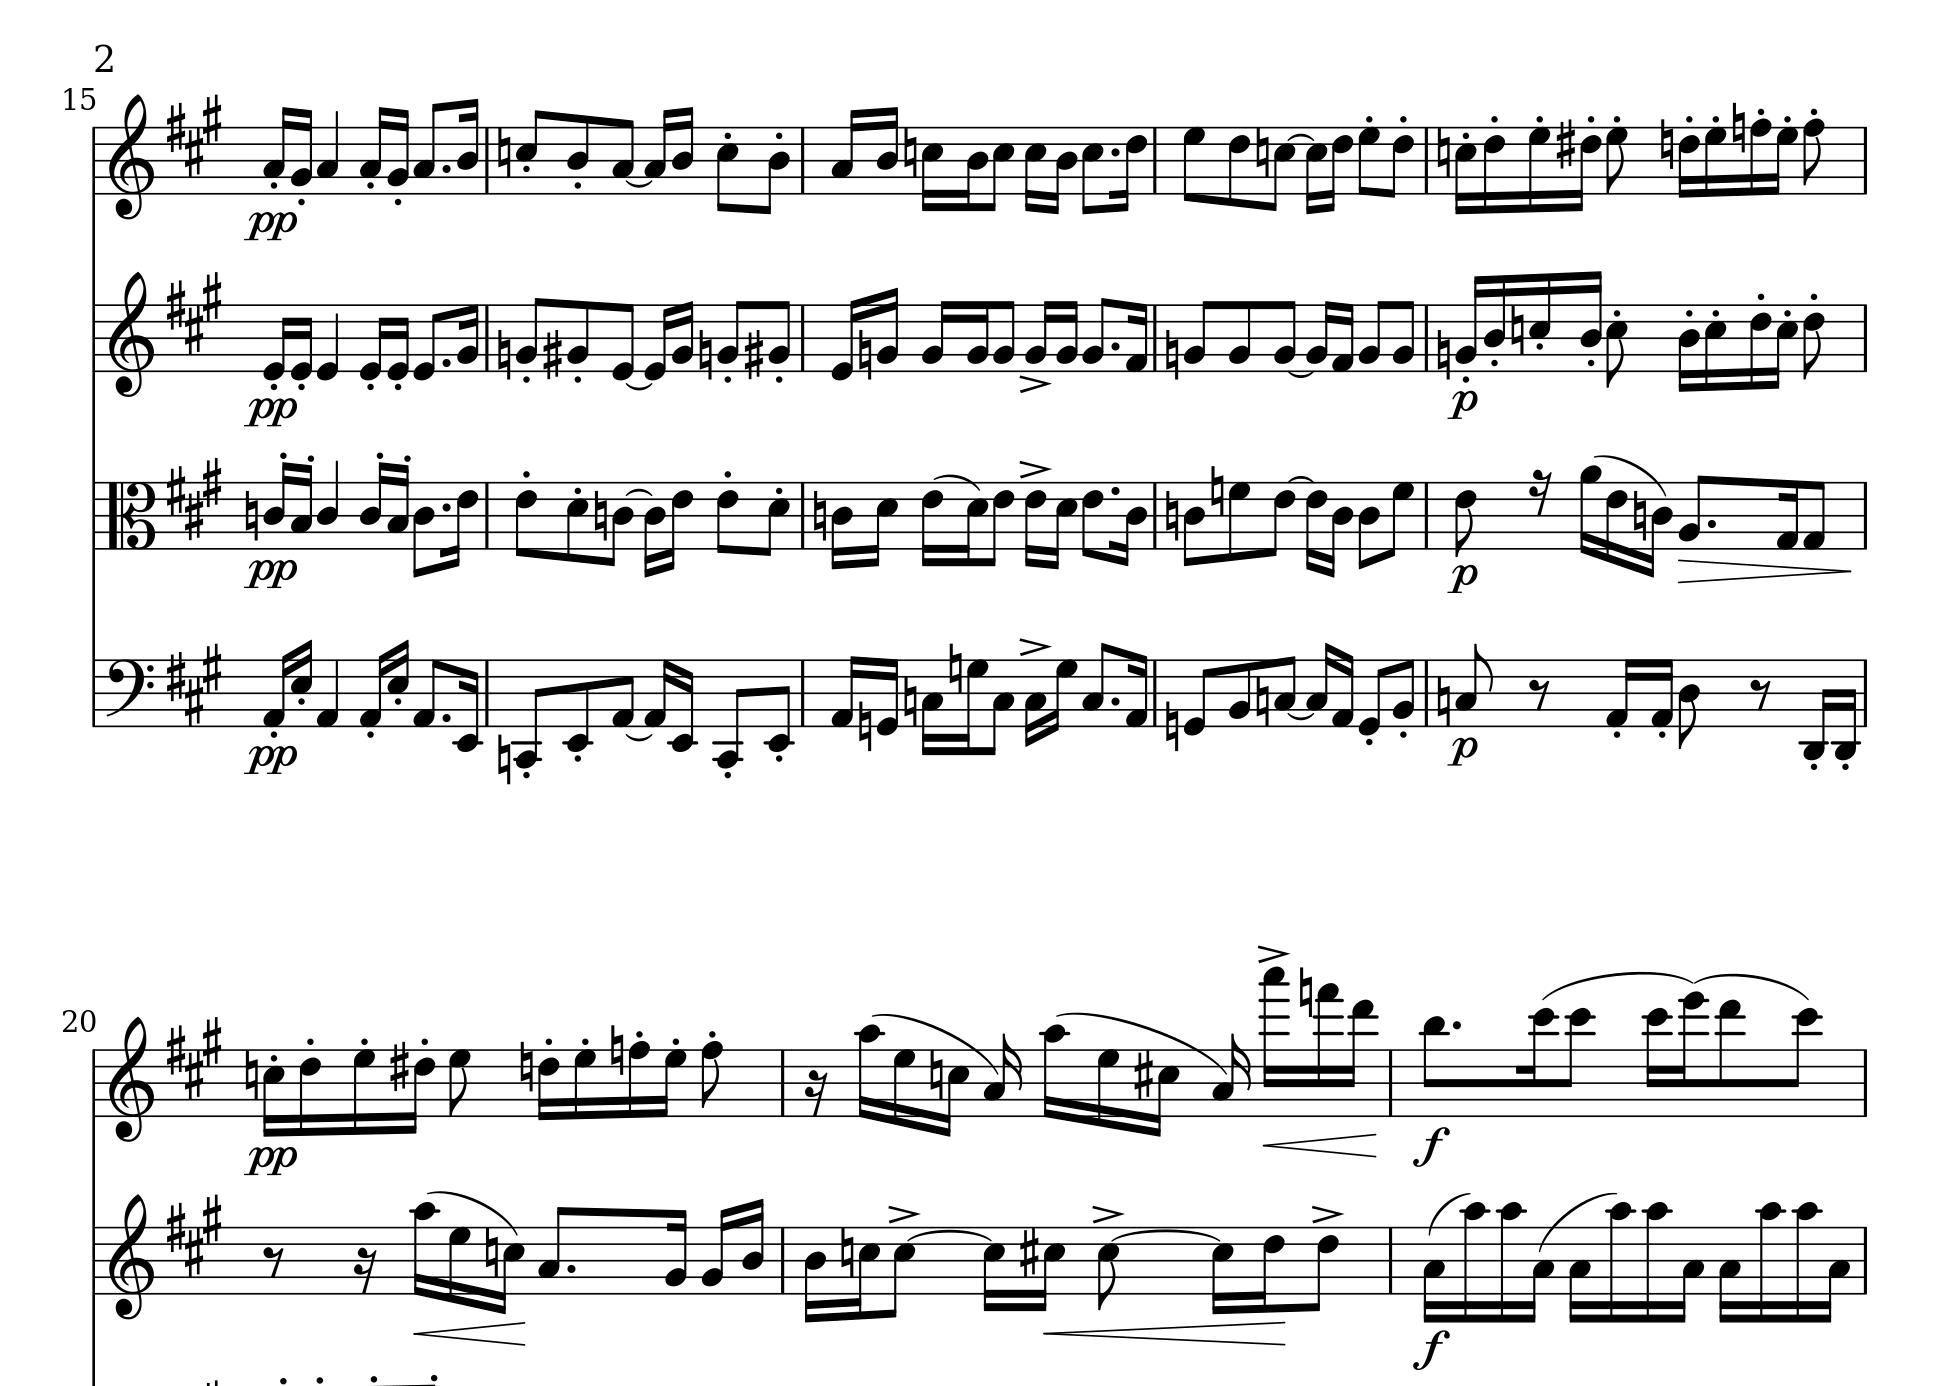0: (79, 1005, 97, 1033)
1: (61, 85, 76, 112)
16_-2: (453, 657, 481, 753), (667, 657, 696, 753)
16_-3: (1800, 657, 1833, 762), (1833, 657, 1860, 762)
16_0: (828, 295, 861, 382), (259, 301, 291, 382), (357, 301, 388, 382), (642, 301, 672, 382), (289, 301, 313, 384), (385, 301, 409, 382), (876, 655, 898, 739)
16_1: (355, 646, 388, 730), (259, 649, 292, 730), (829, 654, 859, 730), (1605, 657, 1636, 729), (642, 657, 672, 730), (1774, 477, 1800, 550), (1125, 651, 1149, 729), (1332, 648, 1354, 727), (1125, 300, 1149, 373), (1650, 655, 1674, 729), (1332, 300, 1354, 373)
16_10: (1606, 1198, 1638, 1324), (1642, 1200, 1674, 1324), (1461, 1198, 1491, 1324), (1756, 1200, 1786, 1324), (1497, 1200, 1527, 1323), (1792, 1200, 1821, 1324), (1041, 1023, 1071, 1120), (856, 1021, 885, 1122), (411, 1200, 439, 1299)
16_12: (1518, 1005, 1558, 1117), (1644, 1006, 1671, 1119)
16_13: (1345, 997, 1377, 1117)
16_14: (1674, 991, 1707, 1117)
16_15: (1314, 979, 1342, 1117)
16_17: (1260, 966, 1290, 1117)
16_2: (1455, 273, 1485, 372), (700, 1204, 730, 1294), (919, 298, 952, 372), (874, 286, 900, 375), (663, 1207, 688, 1296), (1023, 298, 1053, 373), (289, 106, 313, 196), (385, 106, 409, 196), (1305, 298, 1333, 373), (964, 298, 990, 373), (454, 301, 480, 373), (670, 298, 694, 373), (1056, 298, 1078, 373)
16_3: (984, 1030, 1023, 1117), (1212, 1030, 1251, 1117), (1675, 1225, 1707, 1324), (829, 106, 862, 195), (1527, 1224, 1555, 1326), (261, 103, 292, 195), (642, 106, 673, 196), (358, 103, 388, 195), (1824, 1224, 1851, 1323), (1305, 640, 1335, 727), (1567, 1224, 1593, 1324), (1717, 1224, 1743, 1324), (1422, 1224, 1446, 1324), (919, 658, 943, 757), (289, 460, 313, 550), (1023, 658, 1047, 748), (387, 462, 409, 550)
16_4: (1114, 480, 1149, 568), (1645, 478, 1674, 580), (454, 94, 481, 196), (358, 460, 388, 550), (1327, 478, 1354, 577), (958, 124, 988, 213), (262, 459, 291, 549), (741, 1197, 766, 1296), (802, 1225, 828, 1324), (1579, 268, 1603, 373), (1050, 124, 1077, 216), (1483, 273, 1507, 370), (876, 105, 900, 196), (1677, 303, 1701, 394), (829, 480, 853, 571), (642, 481, 664, 576), (672, 105, 694, 195)
16_5: (865, 480, 898, 567), (850, 1225, 880, 1320), (940, 1047, 970, 1138), (1150, 1047, 1180, 1138), (1035, 1225, 1066, 1312), (958, 480, 988, 567), (1050, 478, 1078, 570), (1771, 303, 1800, 390), (496, 1227, 525, 1314), (1528, 271, 1552, 373), (1210, 1222, 1236, 1315), (988, 124, 1014, 211), (1453, 126, 1477, 217), (261, 1047, 285, 1138), (919, 124, 943, 214), (1305, 124, 1329, 214), (1704, 303, 1728, 393), (982, 1224, 1006, 1314), (1023, 124, 1047, 213), (387, 639, 409, 727), (291, 639, 312, 729)
16_6: (444, 478, 480, 568), (1113, 124, 1149, 211), (1252, 1222, 1285, 1314), (664, 478, 694, 571), (405, 1047, 436, 1135), (1572, 127, 1603, 213), (1326, 124, 1354, 211), (919, 478, 945, 568), (1023, 478, 1048, 568), (1305, 480, 1329, 573), (298, 1045, 322, 1137), (1482, 124, 1506, 214), (1749, 301, 1773, 391), (1605, 481, 1629, 565), (1677, 126, 1701, 199), (535, 1047, 559, 1120)
16_7: (957, 655, 990, 757), (1048, 657, 1078, 735), (351, 1045, 376, 1137), (1527, 123, 1551, 214), (1095, 1045, 1120, 1131), (891, 1045, 916, 1129), (447, 1224, 472, 1306), (657, 1048, 685, 1119), (571, 1045, 597, 1120), (1771, 126, 1798, 196), (1704, 124, 1728, 199)
16_8: (1749, 117, 1773, 196), (627, 1038, 649, 1120)
16_9: (1578, 463, 1602, 558)
2: (91, 40, 115, 72), (60, 1006, 79, 1033)
4_0: (315, 301, 340, 382)
4_1: (313, 657, 340, 729)
4_3: (316, 106, 340, 195)
4_4: (315, 457, 340, 550)
5: (79, 85, 96, 111)
8_-2: (562, 657, 592, 753), (763, 658, 793, 751)
8_-4: (511, 657, 544, 769), (712, 657, 745, 769)
8_0: (411, 301, 445, 382), (1356, 655, 1389, 736), (1183, 657, 1215, 736), (609, 301, 636, 382)
8_1: (411, 655, 441, 727), (610, 657, 636, 729), (1803, 478, 1827, 550)
8_11: (1420, 1012, 1449, 1117)
8_12: (1783, 1006, 1821, 1119), (1560, 1006, 1596, 1117)
8_13: (1716, 997, 1746, 1120)
8_2: (1677, 472, 1710, 550), (1182, 298, 1215, 373), (514, 295, 546, 373), (1081, 295, 1113, 372), (715, 298, 745, 373), (1357, 298, 1386, 372), (565, 298, 591, 373), (1227, 298, 1252, 373), (766, 298, 792, 372), (1272, 298, 1297, 372), (993, 298, 1017, 373), (1392, 298, 1416, 373), (1227, 658, 1251, 729), (1392, 657, 1416, 727)
8_3: (1455, 640, 1494, 727), (412, 100, 442, 196), (537, 1204, 568, 1294), (987, 658, 1015, 757), (1081, 640, 1113, 727), (610, 115, 634, 196), (1273, 654, 1297, 727)
8_4: (757, 124, 790, 217), (604, 480, 633, 568), (411, 480, 435, 579), (1677, 657, 1701, 748), (565, 112, 591, 196), (1357, 480, 1381, 568), (1182, 481, 1206, 568)
8_5: (885, 1224, 916, 1320), (514, 108, 546, 196), (1267, 126, 1296, 211), (759, 480, 790, 556), (714, 124, 739, 214), (1095, 1224, 1120, 1311), (1080, 124, 1104, 216), (1605, 303, 1629, 388), (565, 480, 589, 565)
8_6: (1306, 1224, 1341, 1312), (987, 478, 1015, 567), (1266, 478, 1296, 558), (1386, 126, 1416, 199), (1452, 478, 1479, 558), (513, 480, 538, 559), (1227, 124, 1251, 208), (1801, 303, 1827, 379), (1080, 478, 1104, 559), (715, 480, 739, 555)
8_7: (1386, 480, 1416, 559), (1227, 478, 1252, 561), (1182, 124, 1206, 204), (447, 1047, 472, 1117), (1357, 124, 1381, 196), (1605, 124, 1629, 195)
8_8: (699, 1039, 724, 1117), (1801, 117, 1825, 196)
A_S: (165, 454, 225, 543), (165, 1015, 225, 1099), (165, 270, 223, 355), (163, 643, 223, 726), (163, 94, 222, 178), (166, 1192, 223, 1276)
Accent_above: (1089, 1201, 1126, 1222), (1017, 634, 1051, 657), (1017, 457, 1053, 478), (1017, 373, 1053, 393), (886, 1203, 921, 1222), (1311, 1203, 1345, 1222), (1257, 943, 1293, 961)
Cclef: (105, 480, 157, 550)
Crescendo_hairpin: (1047, 1318, 1287, 1347), (1263, 1131, 1378, 1158), (412, 1318, 526, 1345)
Diminuendo_hairpin: (1677, 556, 1852, 583)
Fclef: (105, 655, 156, 730)
Gclef: (106, 268, 157, 397), (106, 91, 156, 222), (106, 1014, 156, 1143), (106, 1192, 156, 1321)
Natural: (495, 327, 513, 382), (495, 732, 513, 787), (241, 487, 259, 541), (1254, 675, 1272, 729), (607, 1024, 625, 1078), (495, 124, 511, 180), (697, 327, 714, 382), (1164, 327, 1180, 382), (1435, 325, 1452, 381), (946, 640, 963, 696), (483, 1224, 499, 1279), (1731, 100, 1747, 154), (856, 328, 873, 382), (1209, 463, 1225, 517), (1632, 487, 1648, 541), (1164, 697, 1180, 751), (243, 1047, 259, 1101), (517, 1039, 534, 1093), (838, 1224, 855, 1278), (901, 126, 918, 178), (1254, 126, 1270, 178), (1659, 118, 1675, 171), (1435, 673, 1452, 726), (1297, 964, 1314, 1017), (927, 1048, 943, 1101), (1509, 304, 1525, 355), (811, 487, 826, 543), (1437, 126, 1452, 180), (1164, 487, 1179, 541), (858, 697, 873, 751), (901, 675, 916, 727), (592, 487, 607, 538)
Rests16: (802, 1068, 829, 1117), (1527, 469, 1554, 517), (352, 1245, 378, 1294)
Rests8: (261, 1243, 286, 1278), (1527, 676, 1551, 711), (1749, 676, 1773, 711)
Sharp: (1131, 1048, 1155, 1102), (1018, 1225, 1041, 1279), (1555, 117, 1576, 171), (388, 1039, 409, 1093), (541, 328, 562, 381), (744, 328, 763, 381)
Single_barline: (85, 658, 103, 727), (85, 481, 103, 549), (793, 481, 811, 549), (1857, 1225, 1875, 1293), (1857, 303, 1873, 372), (85, 1048, 102, 1117), (793, 126, 810, 193), (1857, 126, 1873, 193), (85, 304, 102, 372), (1147, 481, 1164, 549), (1147, 127, 1164, 193), (795, 304, 811, 370), (478, 481, 495, 547), (1857, 1048, 1873, 1114), (85, 126, 100, 195), (1858, 481, 1873, 550), (1419, 127, 1434, 195), (795, 658, 810, 726), (85, 1227, 100, 1294), (480, 127, 495, 193), (480, 304, 495, 370), (1149, 304, 1164, 370), (1419, 304, 1434, 370), (1419, 481, 1434, 547), (1149, 658, 1164, 724), (1419, 658, 1434, 724), (775, 1048, 790, 1114), (775, 1225, 790, 1291), (1383, 1050, 1398, 1114), (1383, 1228, 1398, 1291), (1858, 658, 1872, 727), (480, 660, 493, 724)
Slur: (870, 1009, 1002, 1075), (1536, 1186, 1620, 1252), (427, 1186, 520, 1234), (1696, 970, 1813, 1002), (1593, 453, 1669, 496), (1426, 1189, 1473, 1234), (1108, 1227, 1227, 1240), (906, 1228, 994, 1240), (934, 472, 981, 492), (624, 730, 655, 742), (624, 486, 654, 498), (1287, 709, 1315, 721), (624, 178, 654, 189), (1287, 132, 1315, 142), (625, 381, 652, 391), (1287, 474, 1314, 484), (1287, 369, 1314, 378)
dot: (1704, 516, 1719, 529), (1450, 1017, 1464, 1032), (1108, 339, 1122, 352), (439, 355, 453, 369), (1108, 483, 1122, 496), (1108, 693, 1122, 706), (1110, 144, 1122, 157), (441, 162, 453, 175), (439, 711, 453, 723), (564, 1261, 577, 1273)
f: (1410, 1327, 1455, 1372), (1410, 1125, 1452, 1168)
p: (1446, 388, 1479, 423), (1446, 735, 1479, 769), (1446, 562, 1479, 595)
pp: (241, 394, 298, 430), (243, 208, 298, 244), (243, 556, 297, 592), (241, 742, 297, 777), (243, 1143, 297, 1177)
